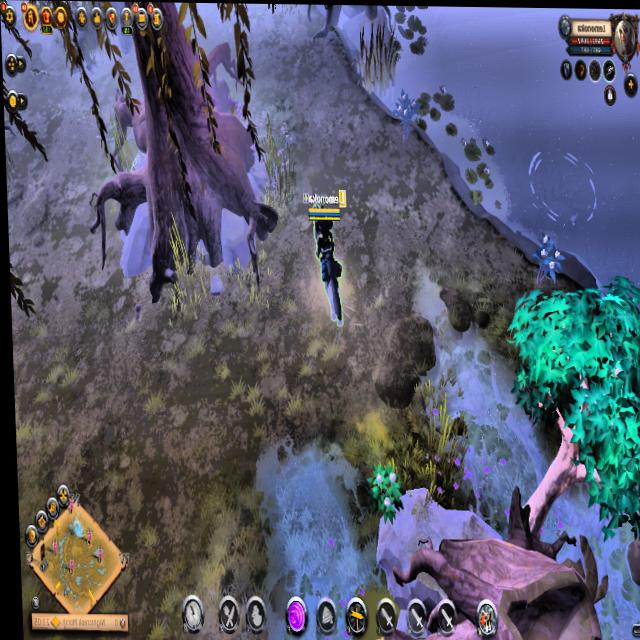fiber tier 3: (362, 460, 400, 523)
fiber tier 4: (526, 228, 564, 284), (389, 83, 422, 146)
fish: (524, 139, 600, 234)
wood tier 3: (506, 275, 640, 542)
